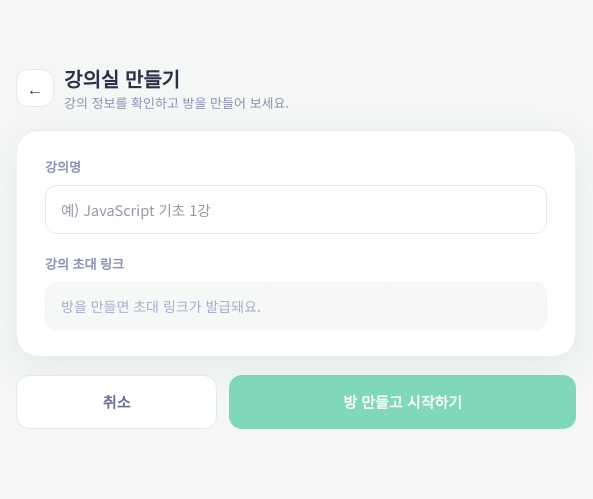
Scenario: CreateSetupScreen › 시작이 실패하면 강의실로 이동하지 않는다
Type "테스트 수업" into the field labelled "강의명".
click(296, 210); type("테스트 수업")  # box 45,185 -> 547,234
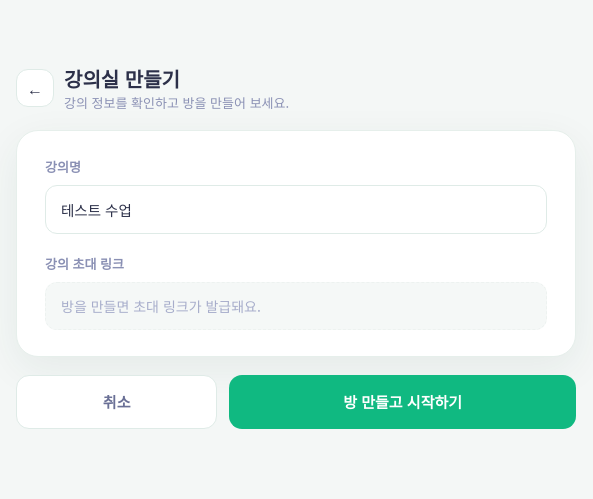
Click the button "방 만들고 시작하기".
click(403, 402)  # box 229,375 -> 576,429
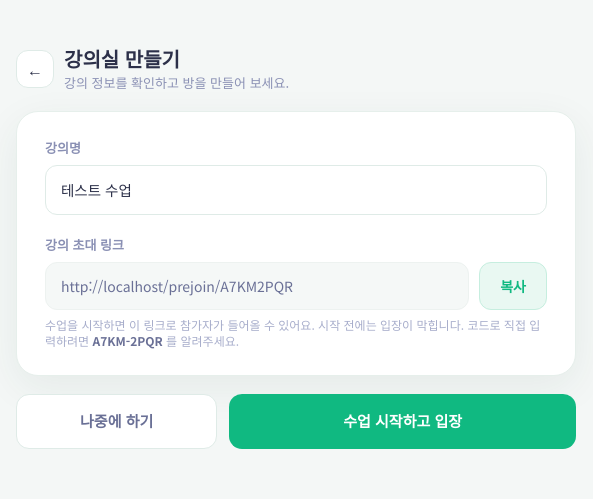
Click the button "수업 시작하고 입장".
click(403, 422)  # box 229,394 -> 576,449
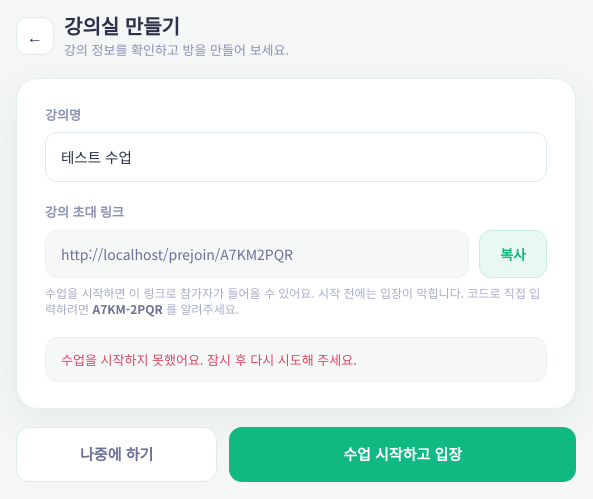
Expected: the message shows "수업을 시작하지 못했어요", 61,350 -> 357,369
